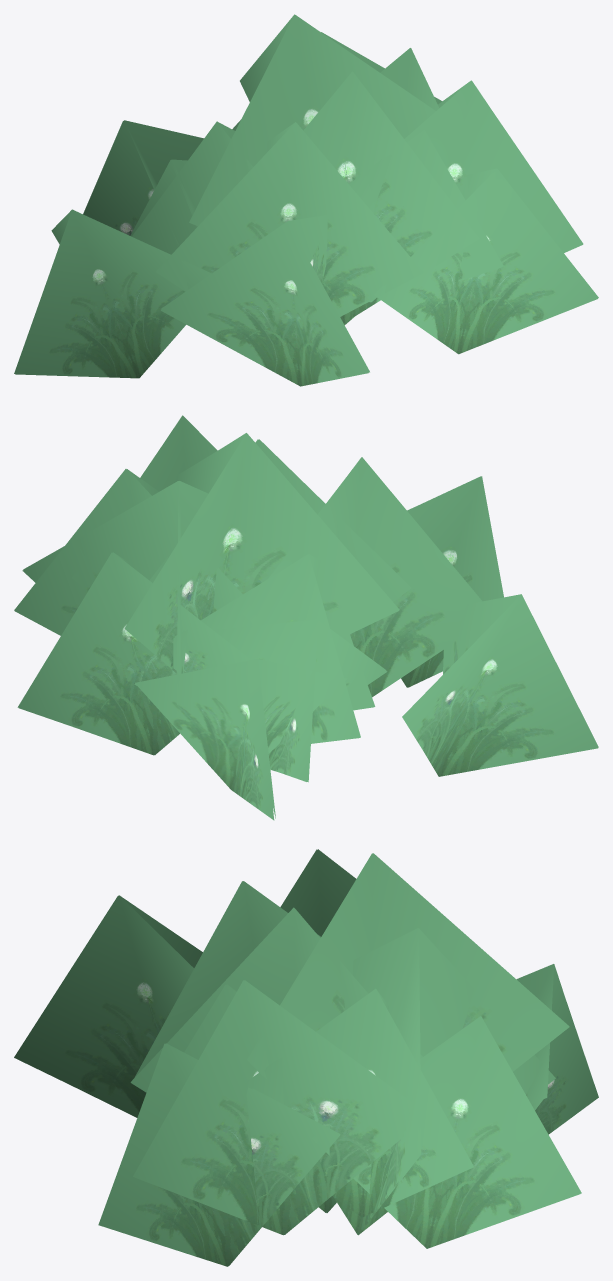
File: SM_cao04_ZYF.fbx
The picture shows the model from 3 angles, top to bottom: view 1: azimuth 30°, elevation 25°; view 2: azimuth 150°, elevation 25°; view 3: azimuth 270°, elevation 25°; orthographic projection. The views are drawn at different scales.
Visible parts, largest first — view 1: SM_cao04_ZYF.mo; view 2: SM_cao04_ZYF.mo; view 3: SM_cao04_ZYF.mo.
Boxes of the visible parts, x1,y1,x2,y2 form: SM_cao04_ZYF.mo: [14, 14, 598, 386]; SM_cao04_ZYF.mo: [14, 415, 598, 820]; SM_cao04_ZYF.mo: [14, 849, 598, 1266].
Size of the model in its own units: 6.17 by 3.64 by 5.38.
